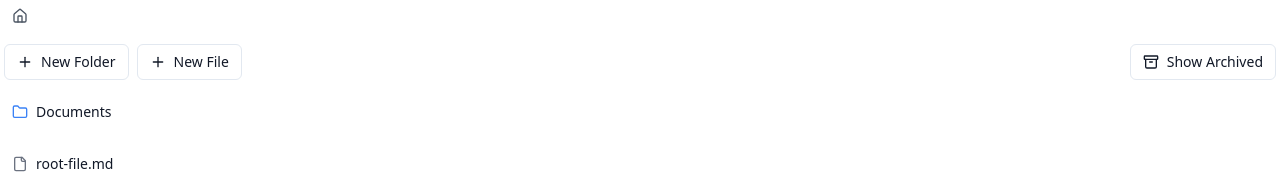
DocsFileSystem › Navigation › should navigate into folders
This screenshot has width=1280, height=195.
Click the text "Documents": (74, 112) [36, 102, 112, 122]
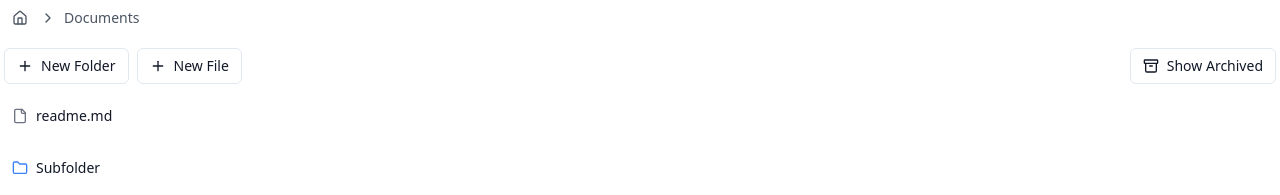
Now the text "readme.md" is shown, box [36, 106, 112, 126]
Now the text "Subfolder" is shown, box [36, 158, 100, 178]
